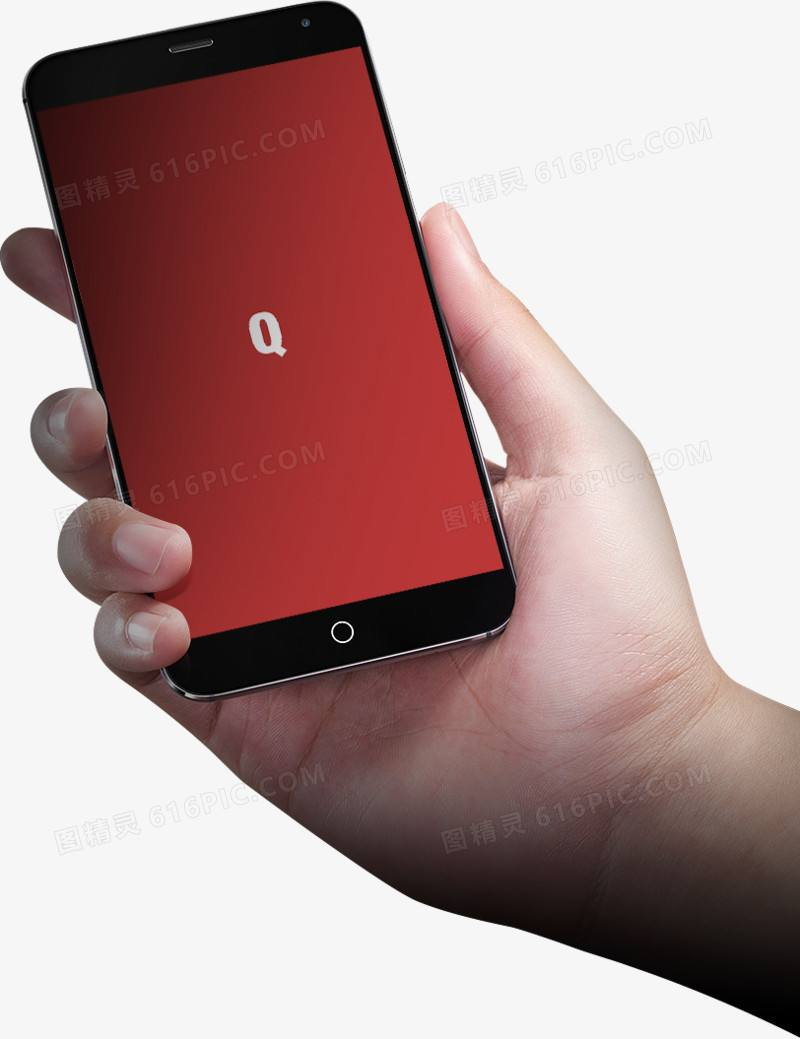phone: (3, 4, 706, 896)
